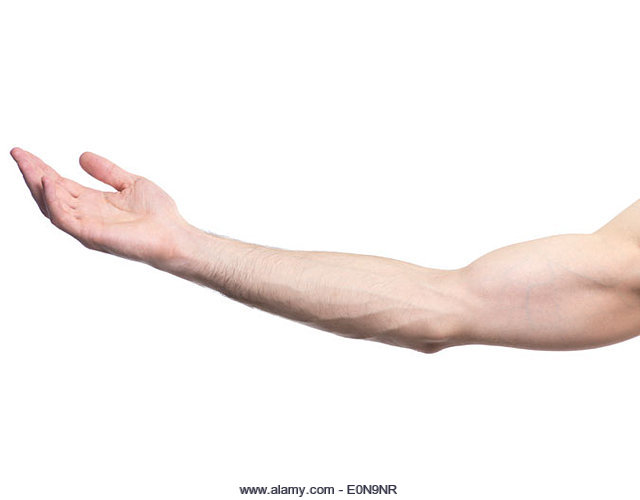hand: (6, 131, 203, 303)
